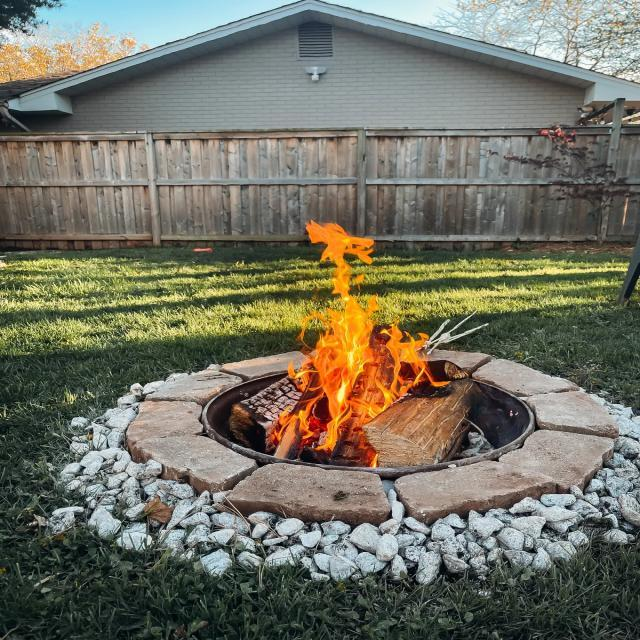Fire: (260, 214, 459, 455)
